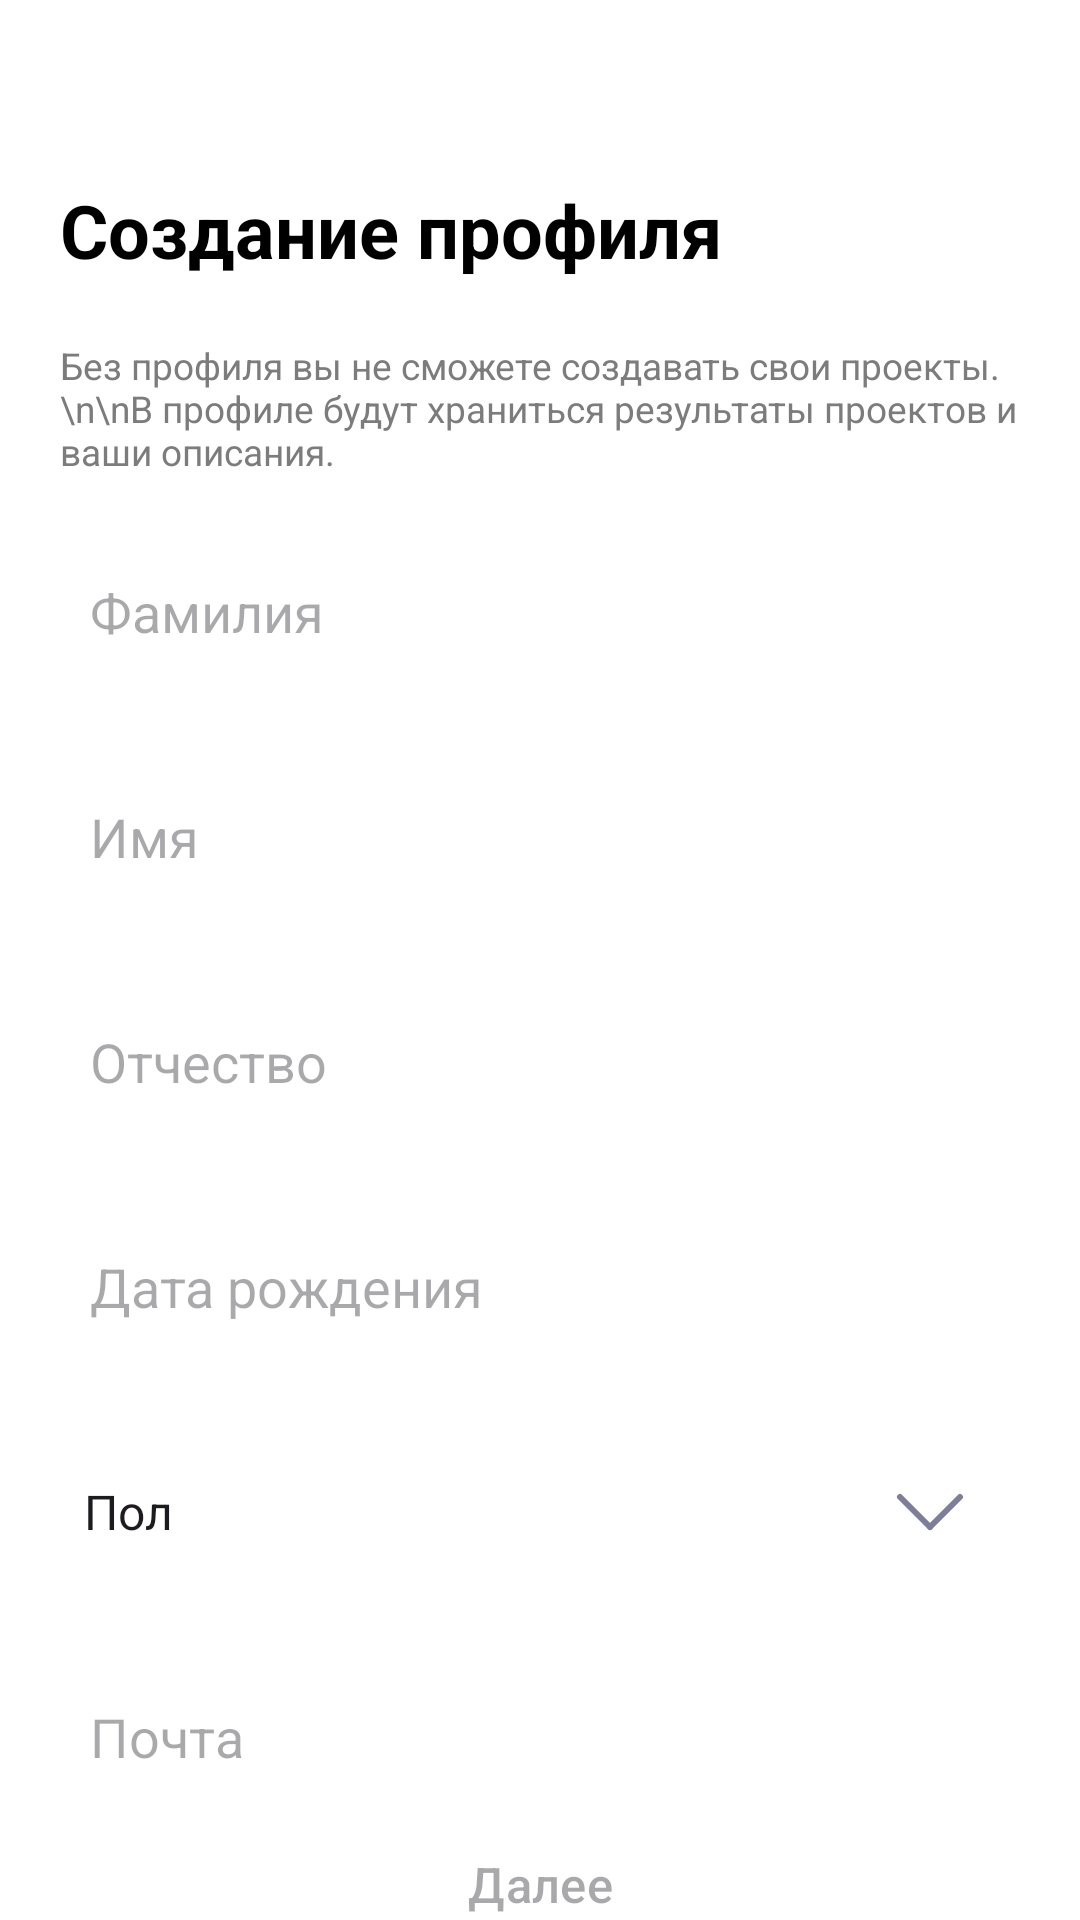

Icons on this 1080 × 1920 Android screen, each with its box as (x1, y1, x2, y2):
select arrow: (897, 1494, 963, 1530)
